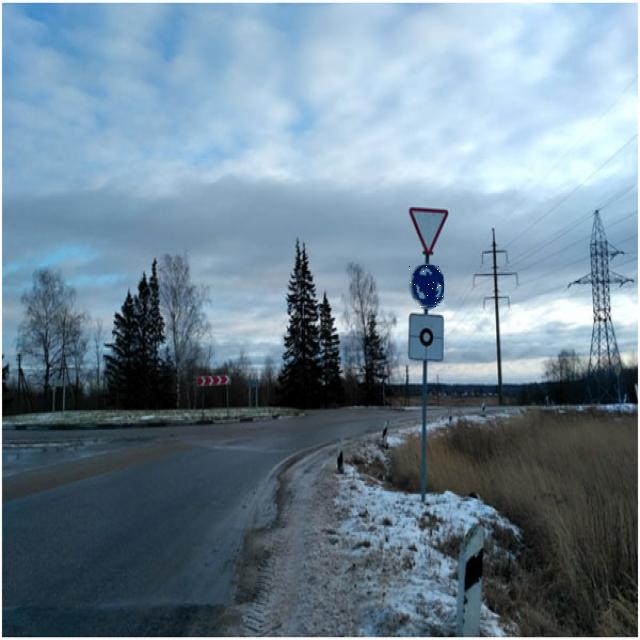roundabout: (409, 265, 444, 308)
